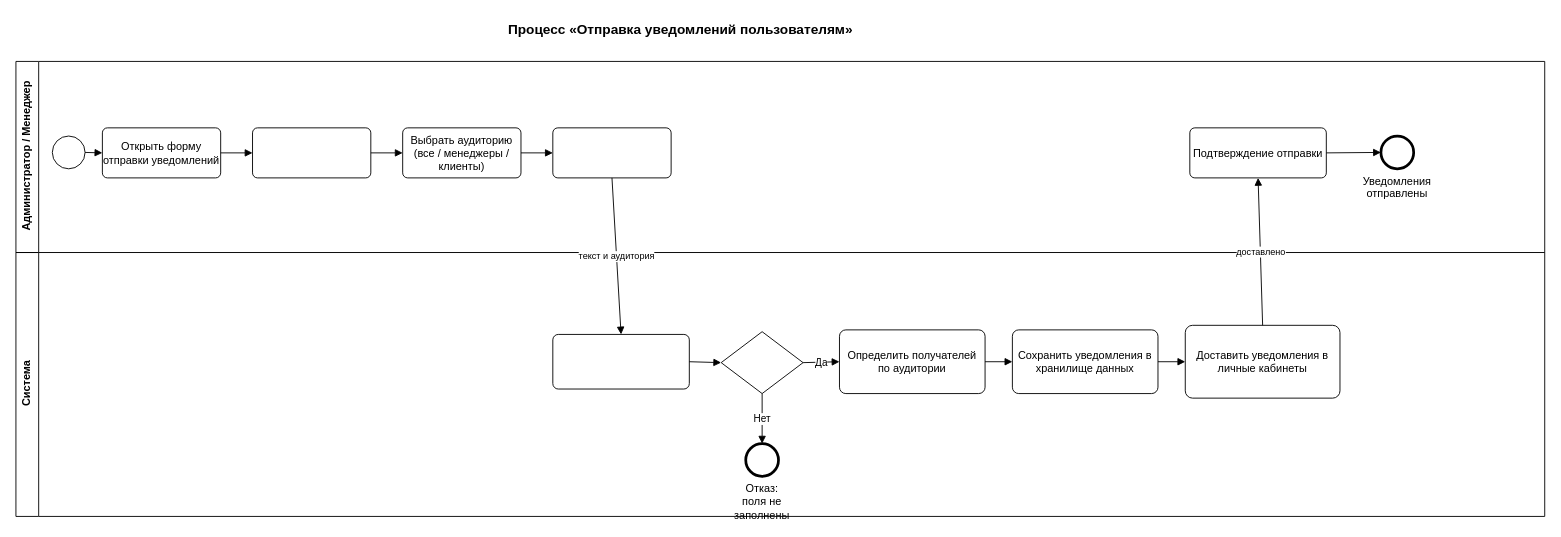
Some shapes in this 1561 by 537 pixel diagram are drawn without their labels. The centre of each missing label's shape, as x and y in pixels:
Ввести заголовок и текст: the point at 311,152
Нажать «Отправить»: the point at 611,152
Начало: the point at 68,152
Поля заполнены?: the point at 761,362
Проверить заполнение полей: the point at 620,361
